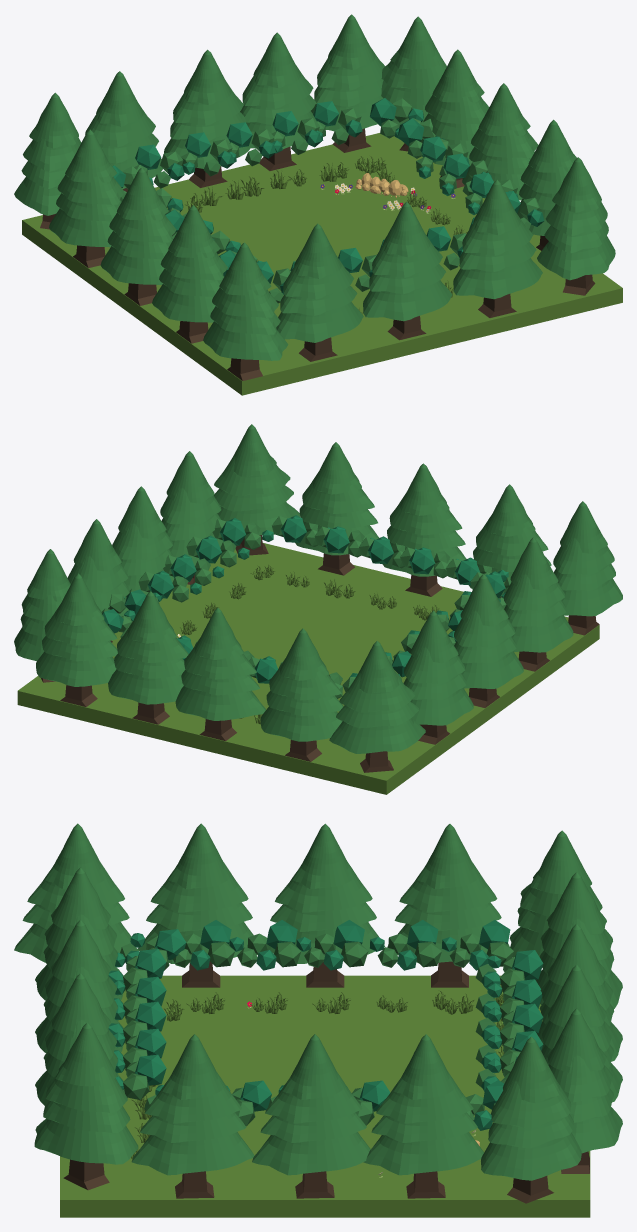
File: escenario_godot_mobile.glb
The picture shows the model from 3 angles, top to bottom: view 1: azimuth 30°, elevation 25°; view 2: azimuth 150°, elevation 25°; view 3: azimuth 270°, elevation 25°; orthographic projection. The views are drawn at different scales.
Visible parts, largest first — view 1: Cube, hojas-pino.024 (×7), hojas-pino.025 (×7), hojas-pino.027 (×4), hojas-pino.023 (×4), hojas-pino.026 (×6), hojas-pino.020 (×4), hojas-pino.021 (×4), hojas-pino.022 (×4), hojas-pino (×2), hojas-pino.001 (×2), tronco-pino.005 (×4) (+18 smaller); view 2: Cube, hojas-pino.024 (×7), hojas-pino.025 (×7), hojas-pino.023 (×4), hojas-pino.026 (×6), hojas-pino.021 (×4), hojas-pino.020 (×4), hojas-pino.003 (×2), hojas-pino.022 (×4), hojas-pino (×2), hojas-pino.001 (×2), hojas-pino.002 (×2) (+22 smaller); view 3: Cube, hojas-pino.024 (×7), hojas-pino.027 (×4), hojas-pino.025 (×7), Hojas.141 (×16), hojas-pino.020 (×4), hojas-pino.021 (×4), hojas-pino.026 (×4), hojas-pino.022 (×4), hojas-pino (×2), hojas-pino.023 (×4), tronco-pino.006 (×4) (+18 smaller).
Boxes of the visible parts, x1,y1,x2,y2 form: Cube: (22,133,622,395); hojas-pino.024 (×7): (294,49,601,278); hojas-pino.025 (×7): (283,94,607,299); hojas-pino.027 (×4): (276,235,615,342); hojas-pino.023 (×4): (49,208,288,360); hojas-pino.026 (×6): (280,113,608,315); hojas-pino.020 (×4): (65,129,271,295); hojas-pino.021 (×4): (57,175,278,317); hojas-pino.022 (×4): (56,193,280,334); hojas-pino (×2): (96,32,300,126); hojas-pino.001 (×2): (85,72,313,147); tronco-pino.005 (×4): (73,245,262,380); Cube: (17,543,599,794); hojas-pino.024 (×7): (73,424,535,571); hojas-pino.025 (×7): (67,456,548,592); hojas-pino.023 (×4): (410,578,622,725); hojas-pino.026 (×6): (120,485,551,575); hojas-pino.021 (×4): (404,538,614,683); hojas-pino.020 (×4): (410,501,607,662); hojas-pino.003 (×2): (108,669,342,741); hojas-pino.022 (×4): (403,564,615,699); hojas-pino (×2): (127,591,328,680); hojas-pino.001 (×2): (117,622,341,700); hojas-pino.002 (×2): (114,653,343,715); Cube: (60,975,590,1217); hojas-pino.024 (×7): (50,867,455,1099); hojas-pino.027 (×4): (34,1118,483,1175); hojas-pino.025 (×7): (44,914,473,1123); Hojas.141 (×16): (135,920,543,1111); hojas-pino.020 (×4): (45,823,479,889); hojas-pino.021 (×4): (27,861,497,912); hojas-pino.026 (×4): (43,1099,477,1142); hojas-pino.022 (×4): (22,902,501,931); hojas-pino (×2): (546,872,606,1027); hojas-pino.023 (×4): (14,922,509,963); tronco-pino.006 (×4): (63,1159,445,1198).
Size of the model in its own units: 41.26 by 13.29 by 41.76.
